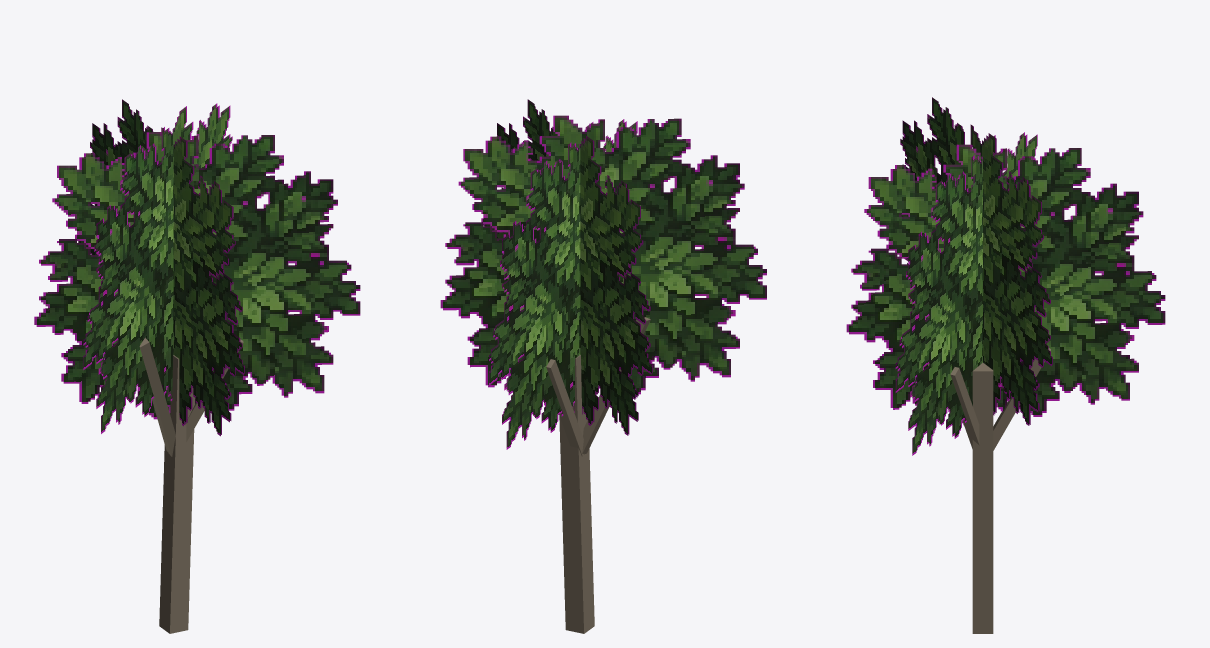
File: city_tree_2.glb
3 renders of one model, left to right at view 1: azimuth 30°, elevation 25°; view 2: azimuth 150°, elevation 25°; view 3: azimuth 270°, elevation 25°, orthographic. The views are drawn at different scales.
Parts seen in each view (by area): view 1: city_tree_2; view 2: city_tree_2; view 3: city_tree_2.
Boxes of the visible parts, <box> form: city_tree_2: <box>34,99,360,633</box>; city_tree_2: <box>440,99,766,633</box>; city_tree_2: <box>846,97,1165,633</box>.
Size of the model in its own units: 3.2 by 5.15 by 3.2.
2 materials, 1 textured.
